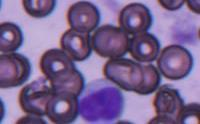M: (78, 80, 124, 124)
